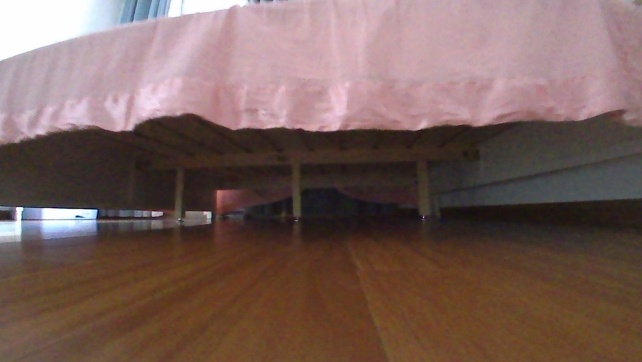bed: (0, 0, 641, 227)
